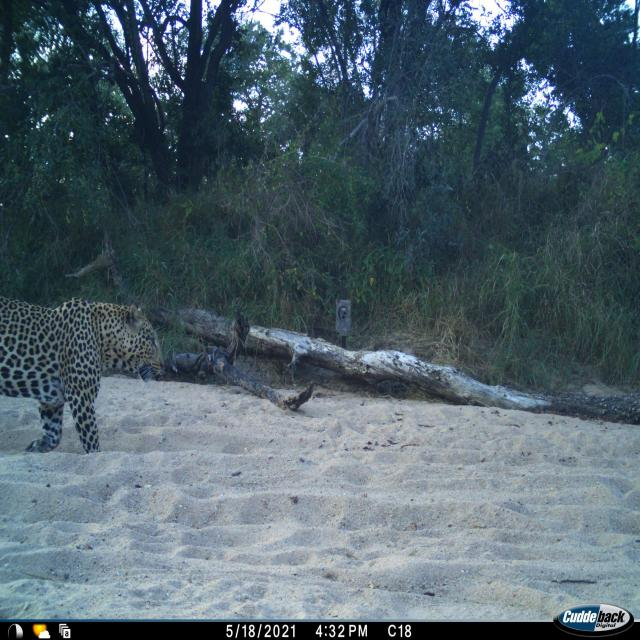Leopard: (0, 280, 181, 450)
